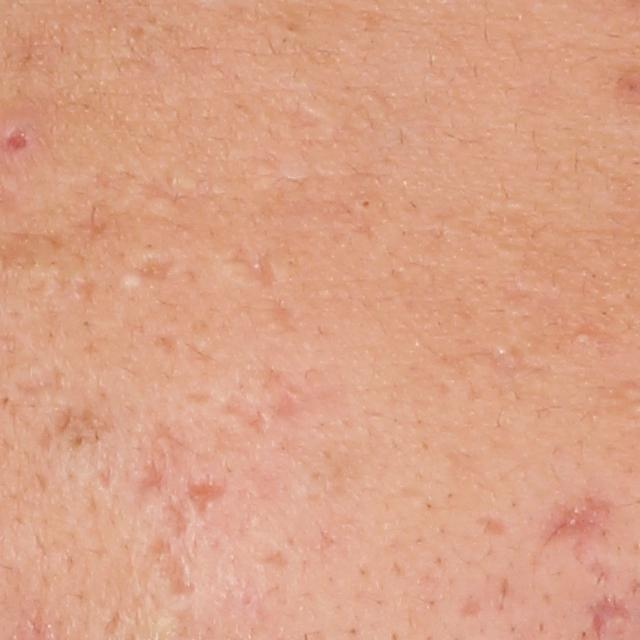atrophic_scar: (216, 369, 306, 436), (535, 493, 620, 551), (218, 241, 275, 292), (133, 170, 200, 212), (8, 361, 68, 402), (155, 546, 195, 595), (189, 483, 230, 522), (133, 252, 179, 280), (71, 273, 102, 304), (259, 545, 288, 575), (473, 515, 514, 535), (459, 593, 484, 618)
comedo: (574, 326, 596, 345), (356, 197, 374, 210)
hypertrophic_scar: (117, 271, 144, 291)
